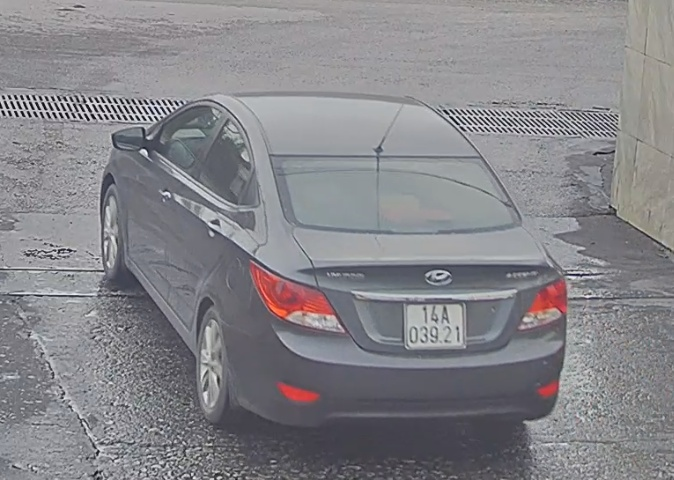vehicle plate: (395, 291, 471, 348)
